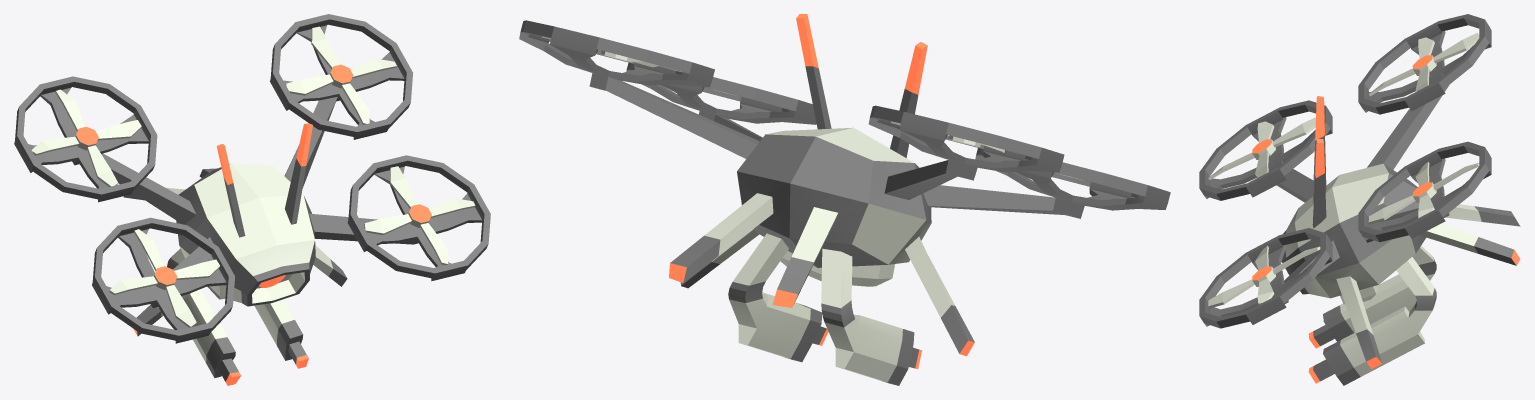
Rendered from Drone_PlayerHit.fbx.
3 renders of one model, left to right at view 1: azimuth 30°, elevation 25°; view 2: azimuth 150°, elevation 25°; view 3: azimuth 270°, elevation 25°, orthographic. The views are drawn at different scales.
Visible parts, largest first — view 1: Drone, Propeller_FR, Propeller_RR; view 2: Drone, Propeller_RR; view 3: Drone, Propeller_FR, Propeller_RR.
Boxes of the visible parts, left/top/right/bottom form: Drone: left=14, top=14, right=490, bottom=385; Propeller_FR: left=109, top=166, right=475, bottom=327; Propeller_RR: left=31, top=26, right=396, bottom=186; Drone: left=519, top=14, right=1170, bottom=385; Propeller_RR: left=541, top=36, right=1004, bottom=152; Drone: left=1199, top=14, right=1520, bottom=385; Propeller_FR: left=1208, top=117, right=1320, bottom=308; Propeller_RR: left=1368, top=32, right=1479, bottom=224.
Bounding box in the file's own units: 277 × 188 × 199.
